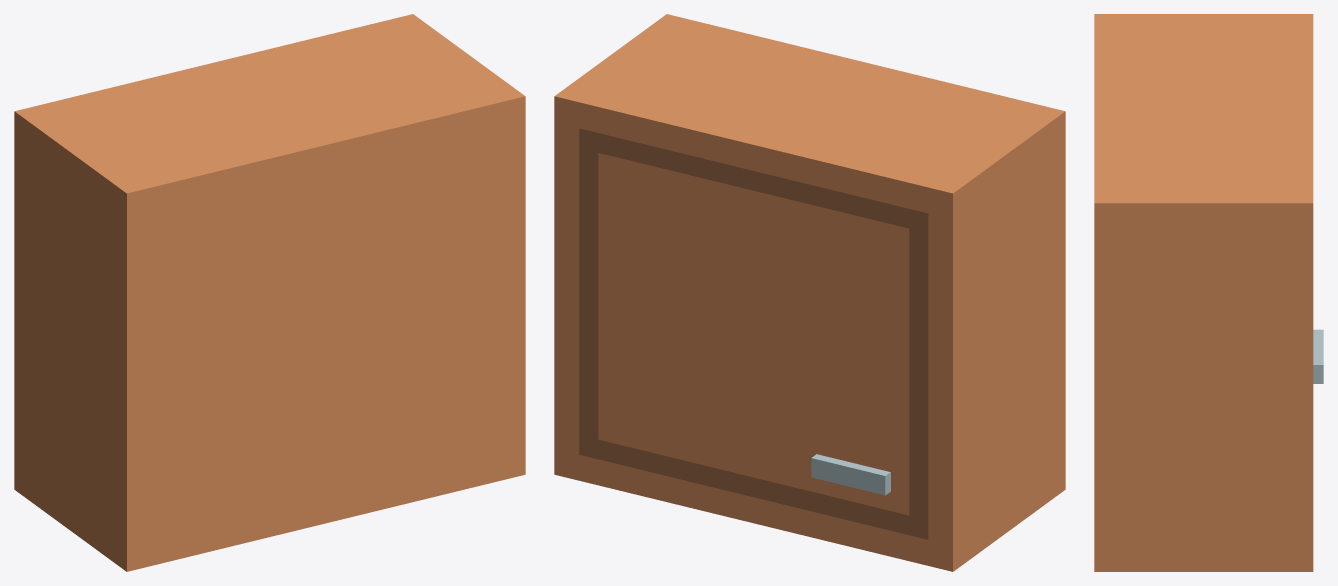
Rendered from kitchen_cabinet_upper.obj.
The picture shows the model from 3 angles, left to right: view 1: azimuth 30°, elevation 25°; view 2: azimuth 150°, elevation 25°; view 3: azimuth 270°, elevation 25°; orthographic projection. The views are drawn at different scales.
Parts seen in each view (by area): view 1: kitchenCabinetUpper:door1; view 2: kitchenCabinetUpper:door1; view 3: kitchenCabinetUpper:door1.
Boxes of the visible parts, box(x1,y1,x2,y2) form: kitchenCabinetUpper:door1: box(14, 14, 525, 571); kitchenCabinetUpper:door1: box(554, 14, 1065, 571); kitchenCabinetUpper:door1: box(1094, 14, 1323, 571).
Size of the model in its own units: 0.43 by 0.39 by 0.22.
